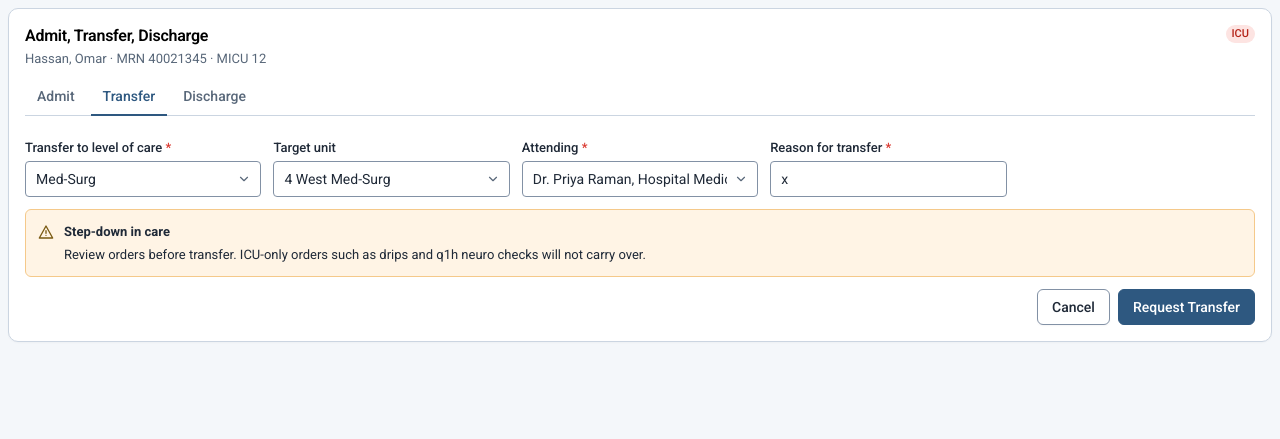
Scenario: ADTPanel › blocks discharge while items are open and asks for the AMA form
Click the tab "Discharge" at (214, 97), box [171,78,258,116]
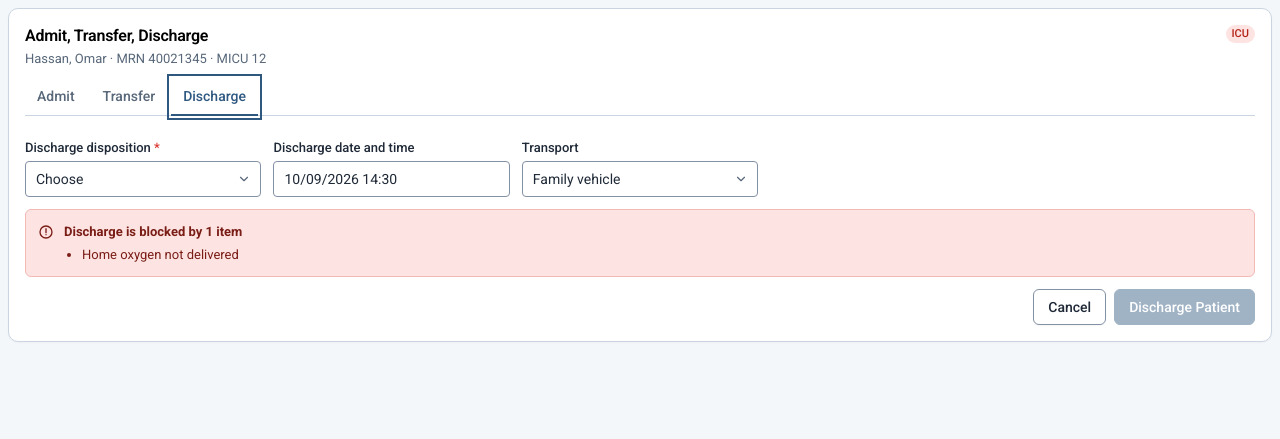
Expected: the text "Discharge is blocked by 1 item" is shown, [64,224,242,239]
Select "Left against medical advice" in the dropdown labelled "Discharge disposition *" at (143, 179), box [25,161,261,197]
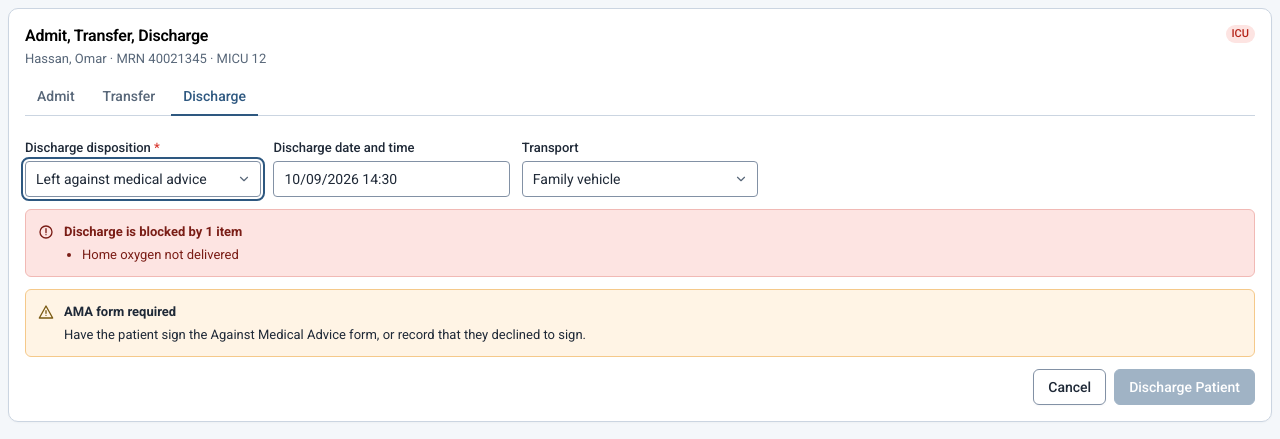
Expected: the button "Discharge Patient" is disabled, [1114,369,1255,405]
Expected: the text "AMA form required" is shown, [64,304,176,319]
